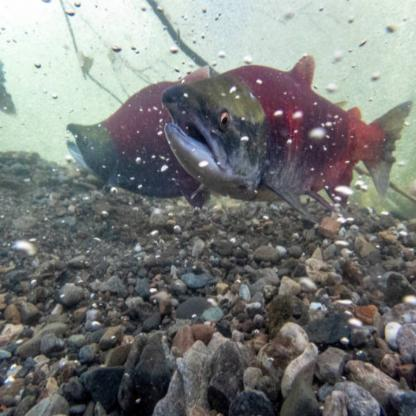sockeye: (167, 49, 405, 196), (59, 79, 209, 197)
